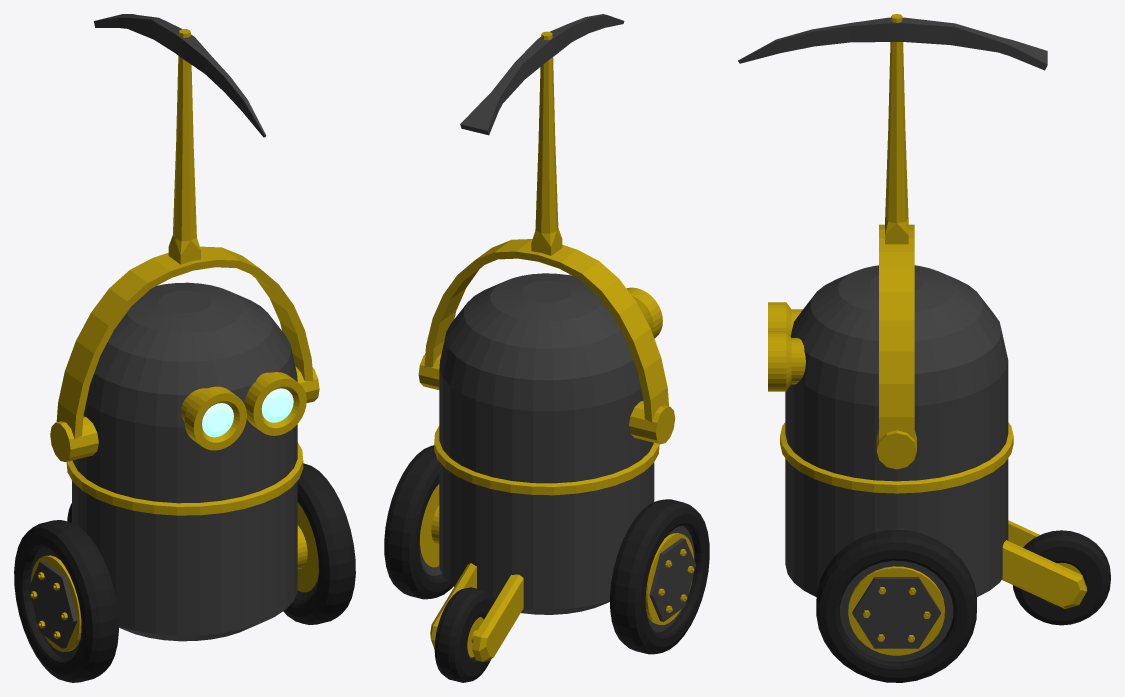
Rendered from prospector.glb.
3 renders of one model, left to right at view 1: azimuth 30°, elevation 25°; view 2: azimuth 150°, elevation 25°; view 3: azimuth 270°, elevation 25°, orthographic. The views are drawn at different scales.
Parts seen in each view (by area): view 1: cuerpo_3, llantas_6, Cilindro_7, lentes_5, palo_9, pico_10, Cilindro.001_8; view 2: cuerpo_3, llantas_6, Cilindro_7, Cilindro.002_12, palo_9, pico_10, Cubo_13, Cilindro.001_8, lentes_5; view 3: cuerpo_3, llantas_6, Cilindro_7, pico_10, Cilindro.002_12, palo_9, Cubo_13, lentes_5, Cilindro.001_8.
Part boxes in pixels (box(x1,y1,x2,y2)): cuerpo_3: box(66, 282, 303, 641); llantas_6: box(14, 463, 355, 682); Cilindro_7: box(56, 246, 313, 439); lentes_5: box(181, 372, 306, 450); palo_9: box(168, 29, 200, 264); pico_10: box(94, 14, 266, 137); Cilindro.001_8: box(50, 366, 319, 461); cuerpo_3: box(434, 273, 659, 614); llantas_6: box(384, 445, 709, 654); Cilindro_7: box(424, 239, 668, 422); Cilindro.002_12: box(434, 587, 495, 682); palo_9: box(531, 31, 562, 255); pico_10: box(460, 14, 624, 135); Cubo_13: box(430, 563, 523, 661); Cilindro.001_8: box(418, 353, 675, 444); lentes_5: box(568, 274, 662, 338); cuerpo_3: box(780, 265, 1013, 596); llantas_6: box(816, 530, 976, 682); Cilindro_7: box(879, 224, 914, 440); pico_10: box(738, 17, 1047, 70); Cilindro.002_12: box(1013, 530, 1110, 625); palo_9: box(885, 14, 908, 244); Cubo_13: box(1002, 520, 1086, 609); lentes_5: box(768, 302, 805, 391); Cilindro.001_8: box(876, 430, 916, 469).
Size of the model in its own units: 2.83 by 6 by 3.35.
